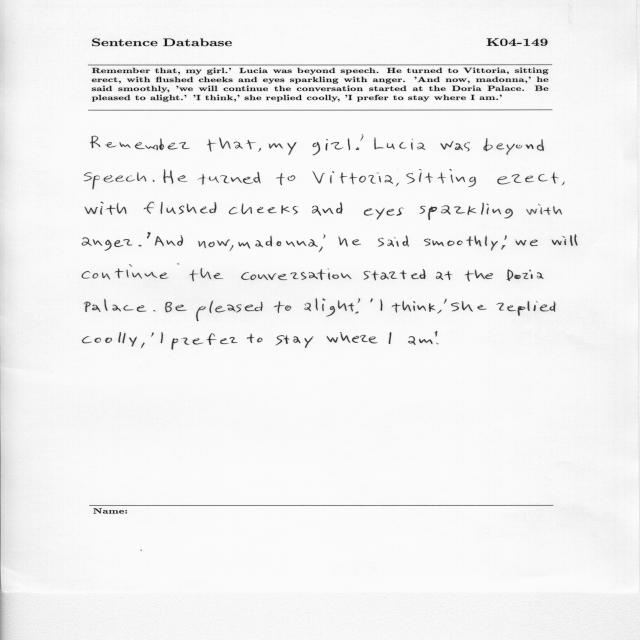word: (420, 203, 513, 220), (82, 264, 179, 280), (91, 136, 190, 150), (196, 301, 263, 321), (241, 268, 351, 280), (406, 169, 476, 187), (171, 333, 238, 350), (424, 236, 498, 251), (84, 172, 146, 189), (312, 171, 393, 184), (483, 138, 544, 155), (305, 298, 355, 317), (497, 301, 556, 316), (144, 202, 216, 214), (198, 172, 261, 185), (85, 299, 147, 312), (82, 332, 137, 346), (229, 204, 298, 215), (498, 173, 559, 185), (82, 237, 132, 251), (255, 236, 318, 247), (207, 138, 256, 152), (364, 269, 426, 280), (374, 137, 425, 150), (327, 332, 377, 343), (85, 202, 126, 215), (364, 207, 404, 220), (392, 301, 435, 313), (276, 335, 313, 348), (313, 139, 343, 155), (507, 269, 544, 281), (190, 268, 223, 281), (312, 202, 342, 216), (408, 331, 438, 345), (526, 204, 562, 215), (198, 240, 234, 251), (451, 301, 487, 312), (163, 169, 188, 184), (269, 142, 297, 155), (378, 236, 409, 247), (465, 270, 493, 282), (441, 141, 470, 152), (552, 234, 578, 246), (155, 236, 183, 247), (277, 173, 296, 185), (165, 302, 187, 312), (274, 301, 291, 313), (436, 271, 453, 280), (515, 240, 538, 246), (247, 334, 262, 343), (356, 135, 364, 150), (338, 236, 348, 247), (319, 234, 325, 252), (238, 242, 250, 249), (501, 235, 507, 249), (356, 299, 360, 314), (352, 240, 361, 246), (389, 332, 392, 344), (147, 232, 151, 239), (348, 139, 350, 151), (381, 299, 383, 311), (141, 342, 145, 348), (161, 333, 163, 344), (437, 310, 442, 314), (444, 299, 447, 304), (151, 332, 154, 337), (258, 148, 261, 152), (396, 183, 399, 187), (562, 181, 565, 185), (370, 299, 373, 303), (139, 245, 142, 247), (153, 180, 155, 182), (154, 310, 156, 312), (437, 343, 439, 345), (515, 239, 516, 240)
